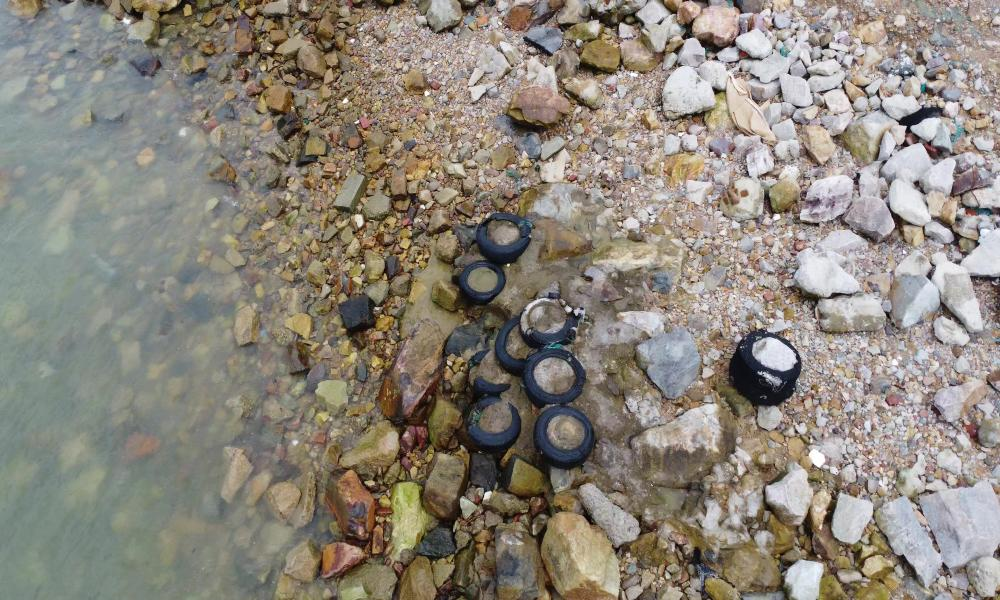tire: (731, 328, 803, 410), (532, 404, 596, 469), (470, 198, 530, 264), (462, 390, 524, 450), (515, 290, 584, 339), (450, 352, 520, 399), (517, 352, 593, 395), (453, 251, 509, 302), (497, 318, 535, 363)
